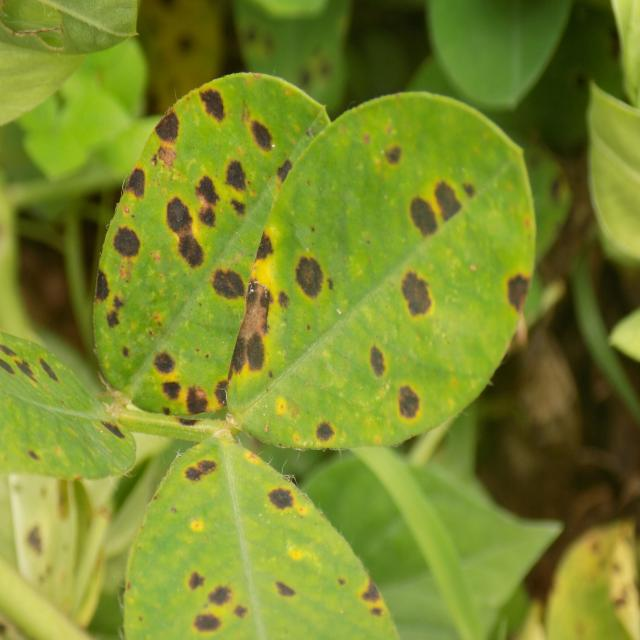Ground nut_tikka leaf spot: (221, 83, 528, 444), (91, 70, 343, 426)
